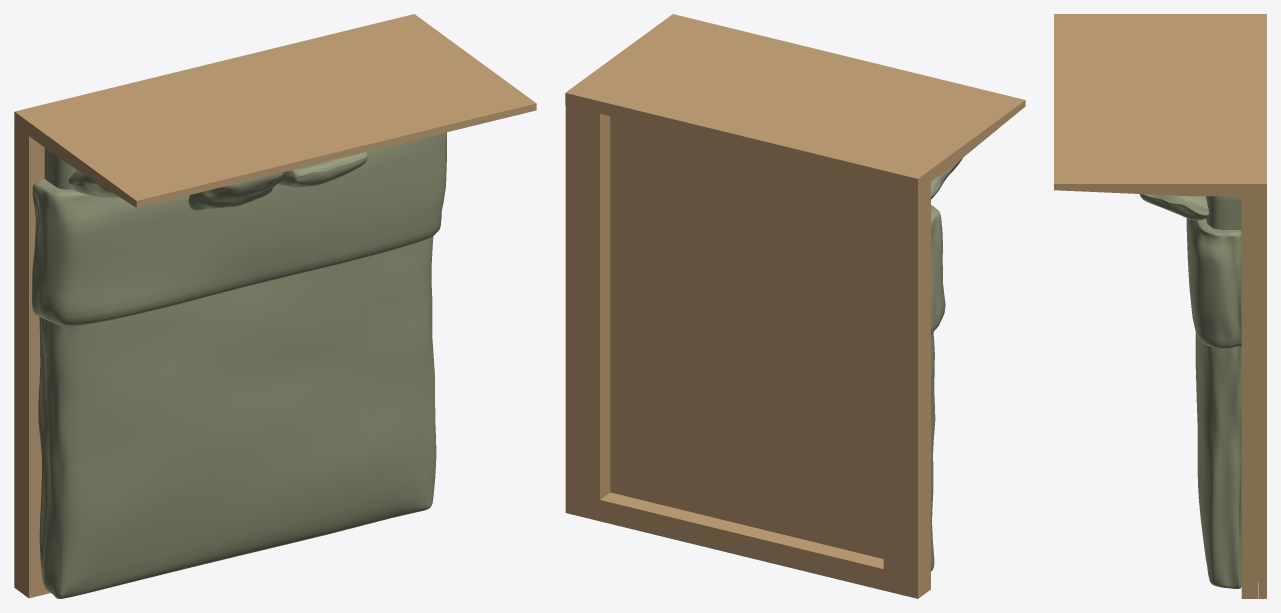
The model's file is CamaCalifornia.obj.
The picture shows the model from 3 angles, left to right: view 1: azimuth 30°, elevation 25°; view 2: azimuth 150°, elevation 25°; view 3: azimuth 270°, elevation 25°; orthographic projection. The views are drawn at different scales.
Parts seen in each view (by area): view 1: Box11712, Box11710, Box11705, Box11703, Box11702, Box11706, Box11707; view 2: Box11711, Box11710, Box11705, Box11704, Box11709, Box11712; view 3: Box11710, Box11712, Box11704, Box11706, Box11708.
Boxes of the visible parts, x1,y1,x2,y2 form: Box11712: [31, 132, 446, 598]; Box11710: [14, 14, 536, 207]; Box11705: [14, 125, 50, 598]; Box11703: [188, 172, 283, 210]; Box11702: [278, 152, 367, 187]; Box11706: [44, 148, 77, 189]; Box11707: [68, 170, 119, 197]; Box11711: [610, 116, 883, 558]; Box11710: [565, 14, 1025, 190]; Box11705: [883, 182, 930, 598]; Box11704: [565, 105, 610, 521]; Box11709: [600, 492, 926, 595]; Box11712: [931, 205, 945, 571]; Box11710: [1054, 14, 1266, 196]; Box11712: [1186, 218, 1241, 588]; Box11704: [1241, 196, 1266, 598]; Box11706: [1206, 196, 1241, 563]; Box11708: [1139, 194, 1209, 220].
Bounding box in the file's own units: 203 × 229 × 107.
